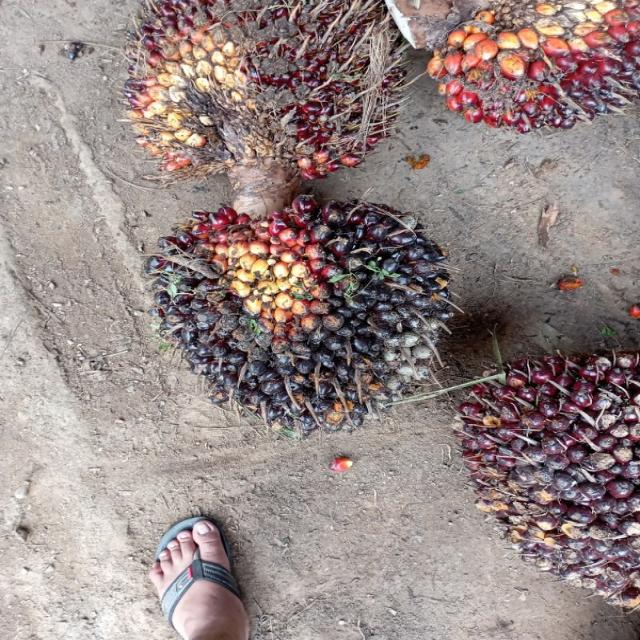fraksi 00: (138, 176, 464, 442)
fraksi 1: (106, 0, 402, 185), (439, 349, 640, 610)
